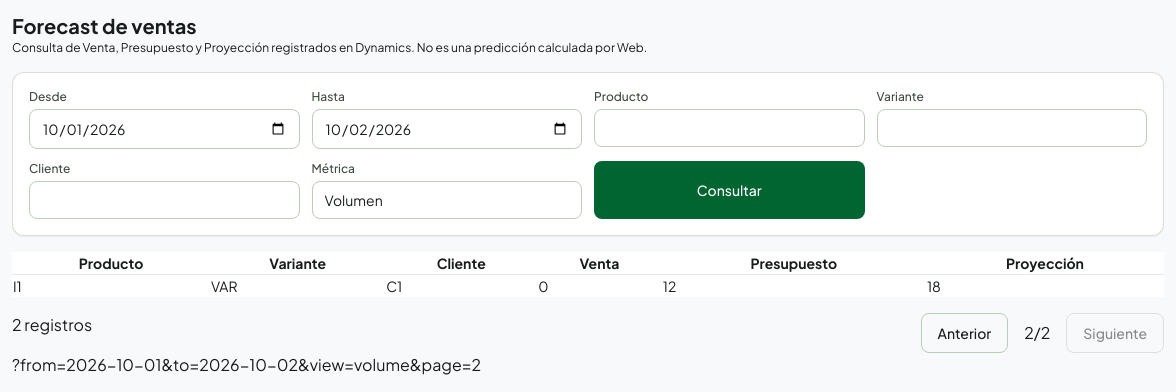
Scenario: ForecastPage filters and persisted values › preserves URL filters and omits optional blanks when applying
The width and height of the screenshot is (1176, 392).
Expected: the dropdown labelled "Métrica" shows "Volumen", x1=312 y1=181 x2=582 y2=219
Click the button "Consultar": (729,190) x1=594 y1=161 x2=864 y2=219
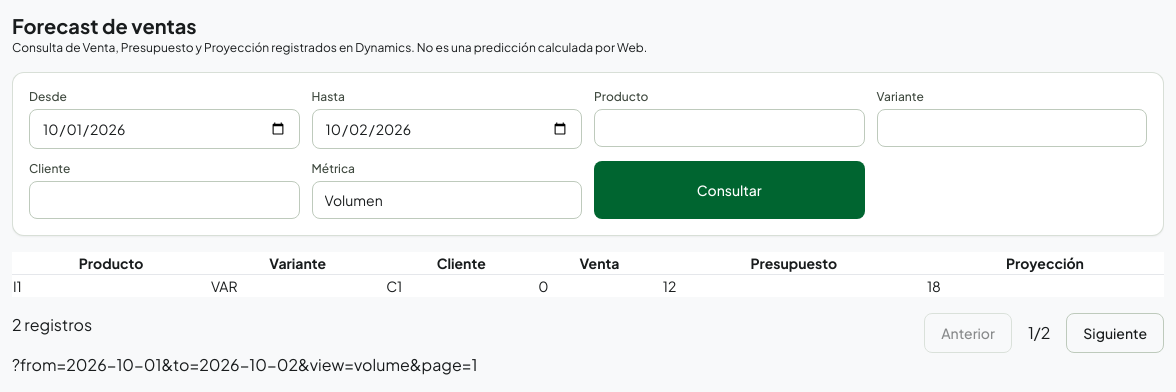
Expected: the text with test id "location" does not show "customer=", x1=12 y1=354 x2=477 y2=375
Now the text with test id "location" shows "view=volume&page=1", box x1=12 y1=354 x2=477 y2=375
